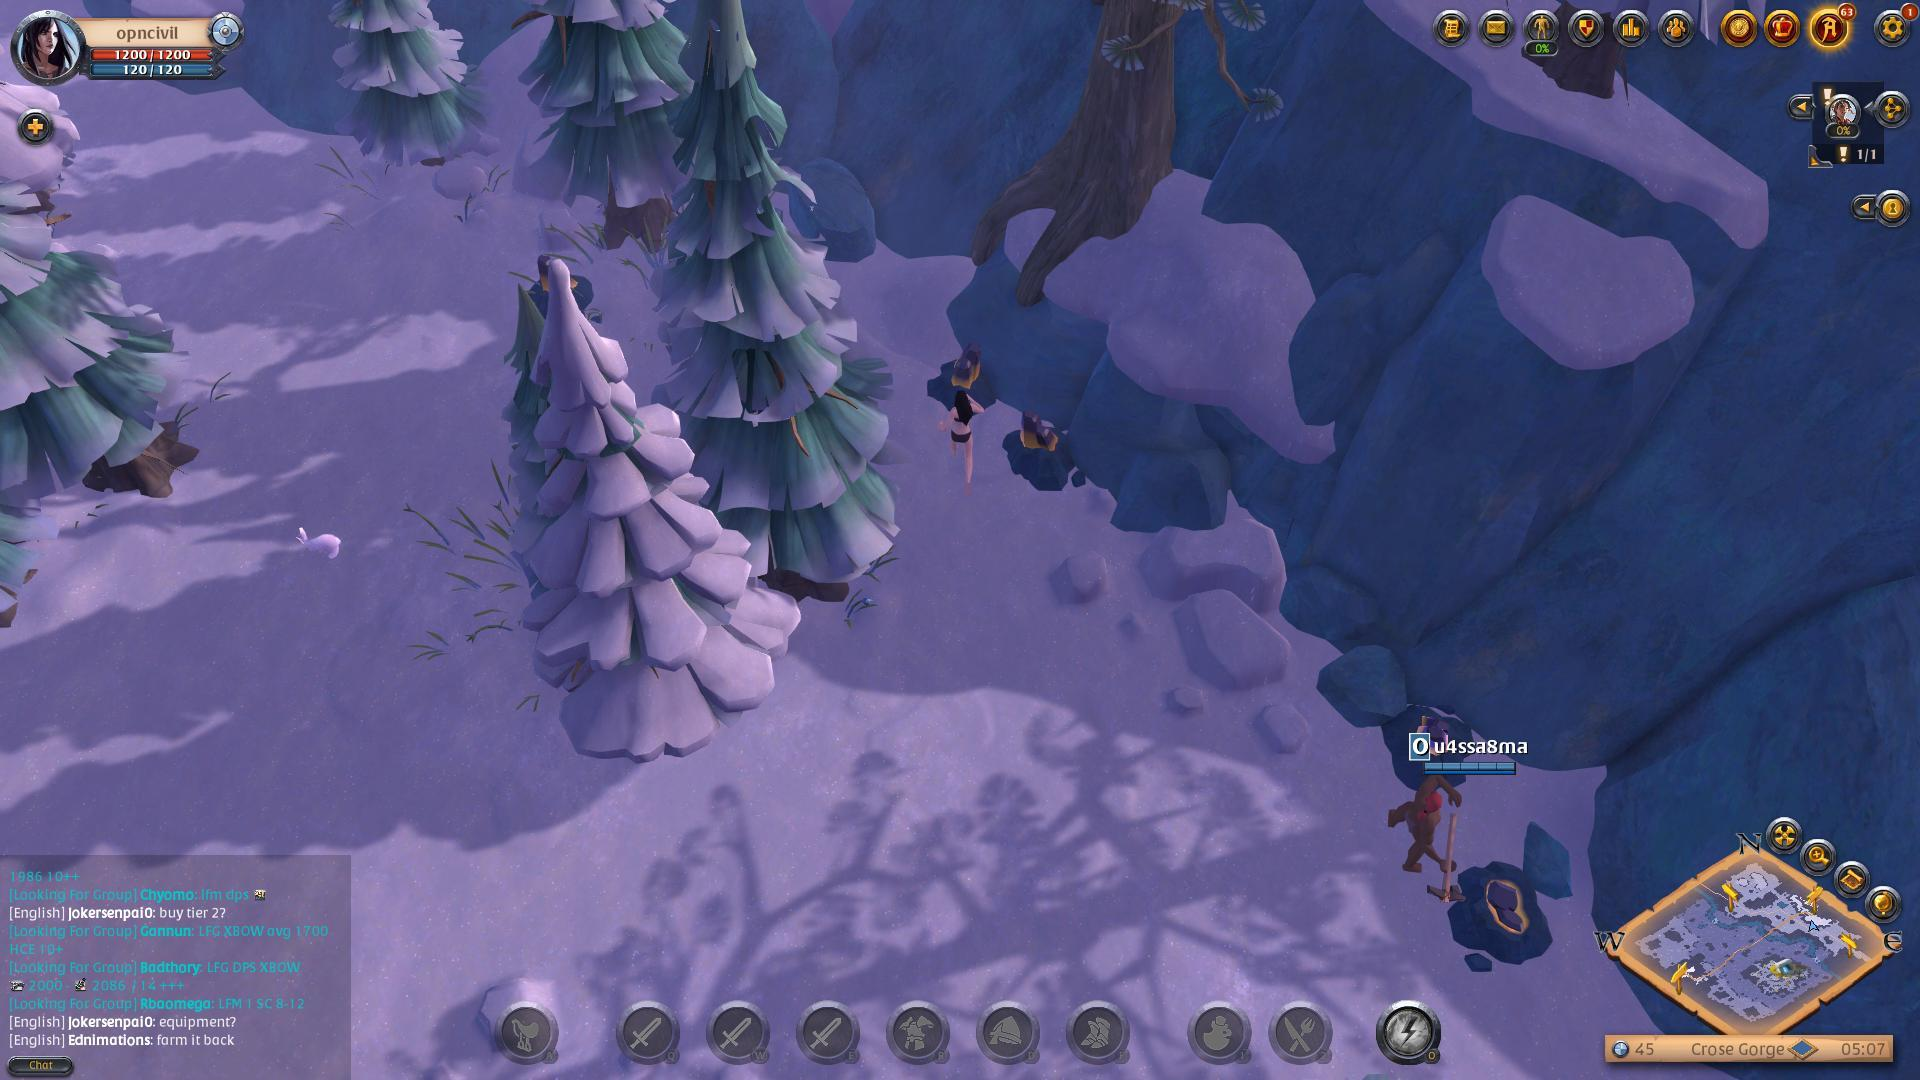copper_ore: (997, 415, 1092, 484)
